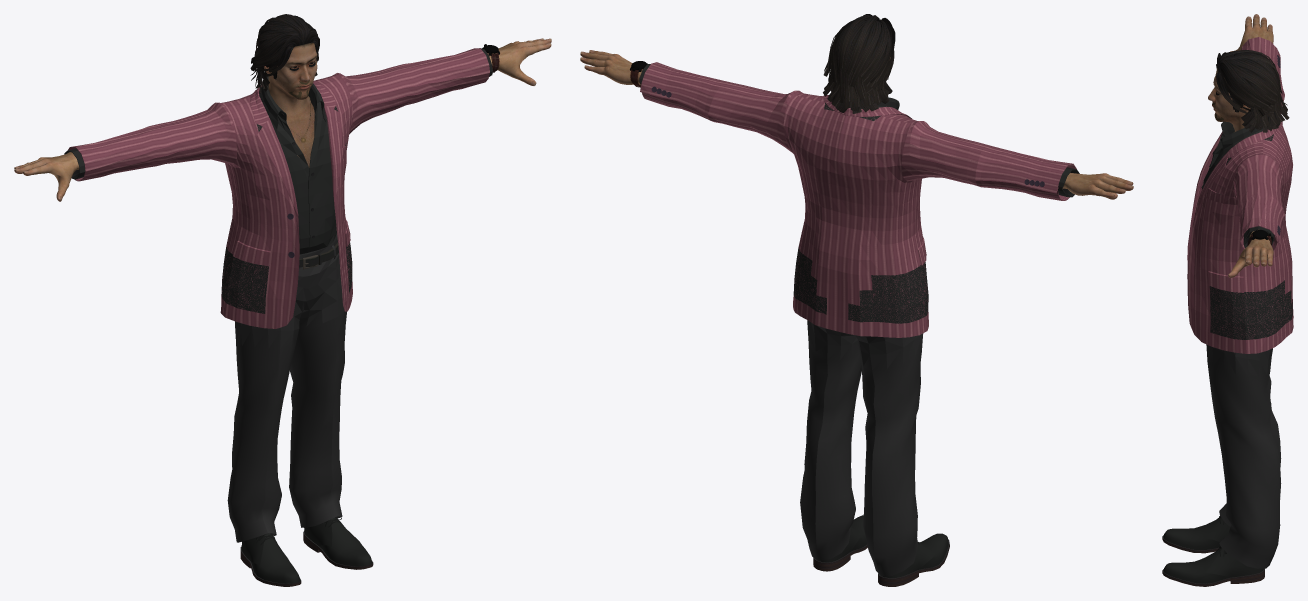
The model's file is Suit_Chines_Male.fbx.
The picture shows the model from 3 angles, left to right: view 1: azimuth 30°, elevation 25°; view 2: azimuth 150°, elevation 25°; view 3: azimuth 270°, elevation 25°; orthographic projection. The views are drawn at different scales.
Parts seen in each view (by area): view 1: [l]wear_n, [l]shoes_n, [l]head_n, [l]ns_hair_16, [l]body_n; view 2: [l]wear_n, [l]ns_hair_16, [l]shoes_n, [l]body_n; view 3: [l]wear_n, [l]ns_hair_16, [l]shoes_n, [l]body_n, [l]head_n, [l]gaga_n_90.
Boxes of the visible parts, left/top/right/bottom form: [l]wear_n: left=64, top=48, right=492, bottom=542; [l]shoes_n: left=240, top=516, right=373, bottom=586; [l]head_n: left=264, top=43, right=317, bottom=167; [l]ns_hair_16: left=250, top=14, right=319, bottom=93; [l]body_n: left=14, top=38, right=551, bottom=201; [l]wear_n: left=639, top=62, right=1079, bottom=576; [l]ns_hair_16: left=823, top=14, right=895, bottom=113; [l]shoes_n: left=813, top=515, right=949, bottom=586; [l]body_n: left=580, top=50, right=1133, bottom=199; [l]wear_n: left=1187, top=37, right=1293, bottom=568; [l]ns_hair_16: left=1216, top=50, right=1289, bottom=132; [l]shoes_n: left=1162, top=516, right=1264, bottom=586; [l]body_n: left=1228, top=14, right=1273, bottom=277; [l]head_n: left=1208, top=68, right=1250, bottom=132; [l]gaga_n_90: left=1247, top=230, right=1271, bottom=245.
Bounding box in the file's own units: 200 × 190 × 44.32.
Materials: 13 (13 with a texture image).
